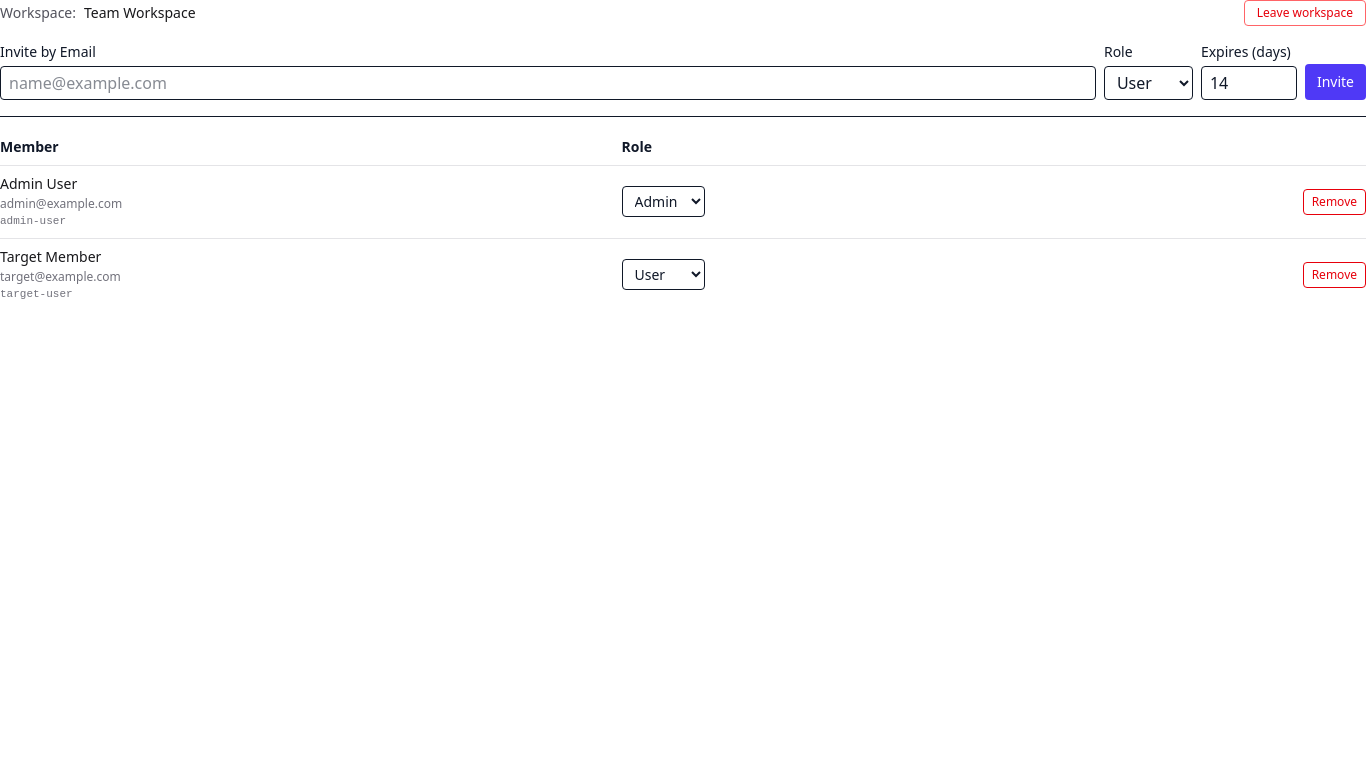
Test: MembersTab workspace actions › requires confirmation before removing members with workspace secrets
Expected: the text "Target Member" is shown, [0,247,101,266]
Click the button "Remove" in the row of "Target Member": [1334, 274] box [1303,262,1365,288]
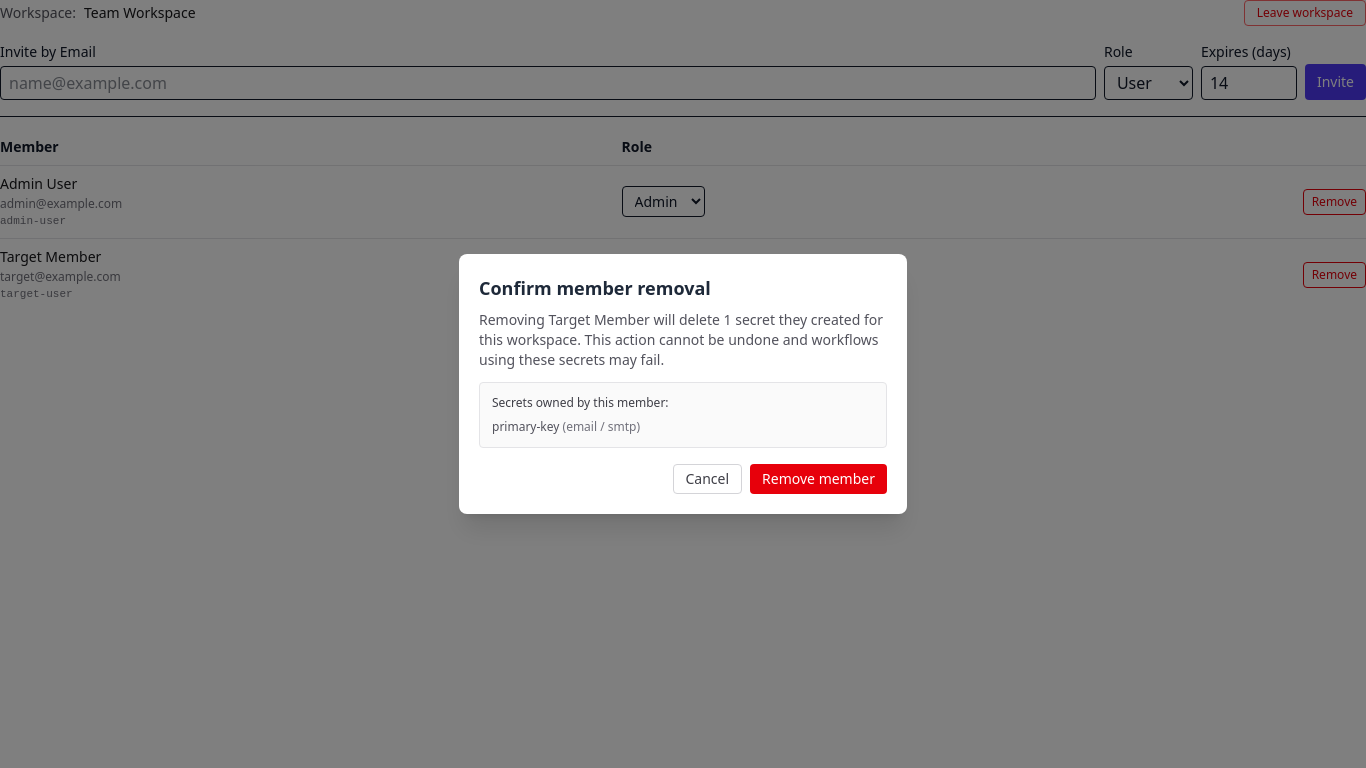
Now the heading "Confirm member removal" is shown, box [479,276,711,300]
Click the button "Remove member": [819, 479] box [750,464,887,494]
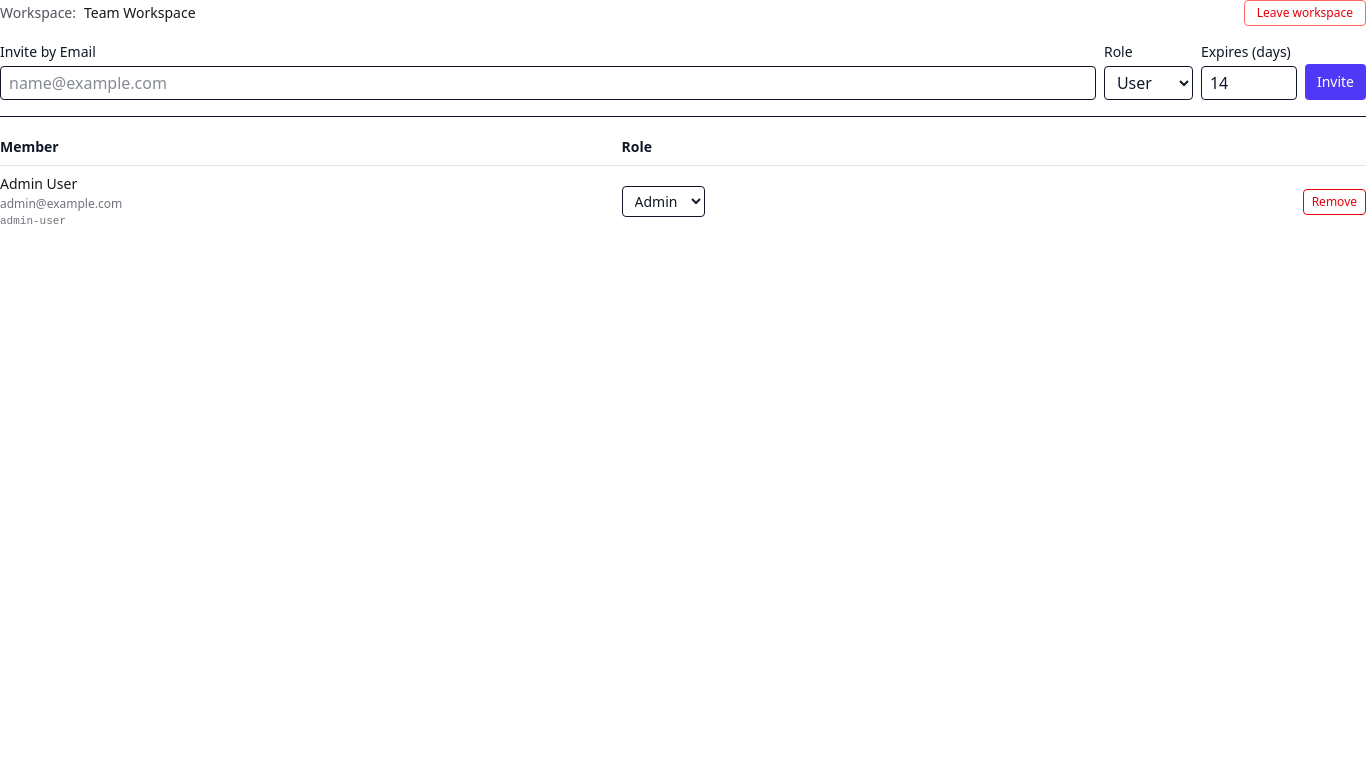
Now the heading "Confirm member removal" is gone
